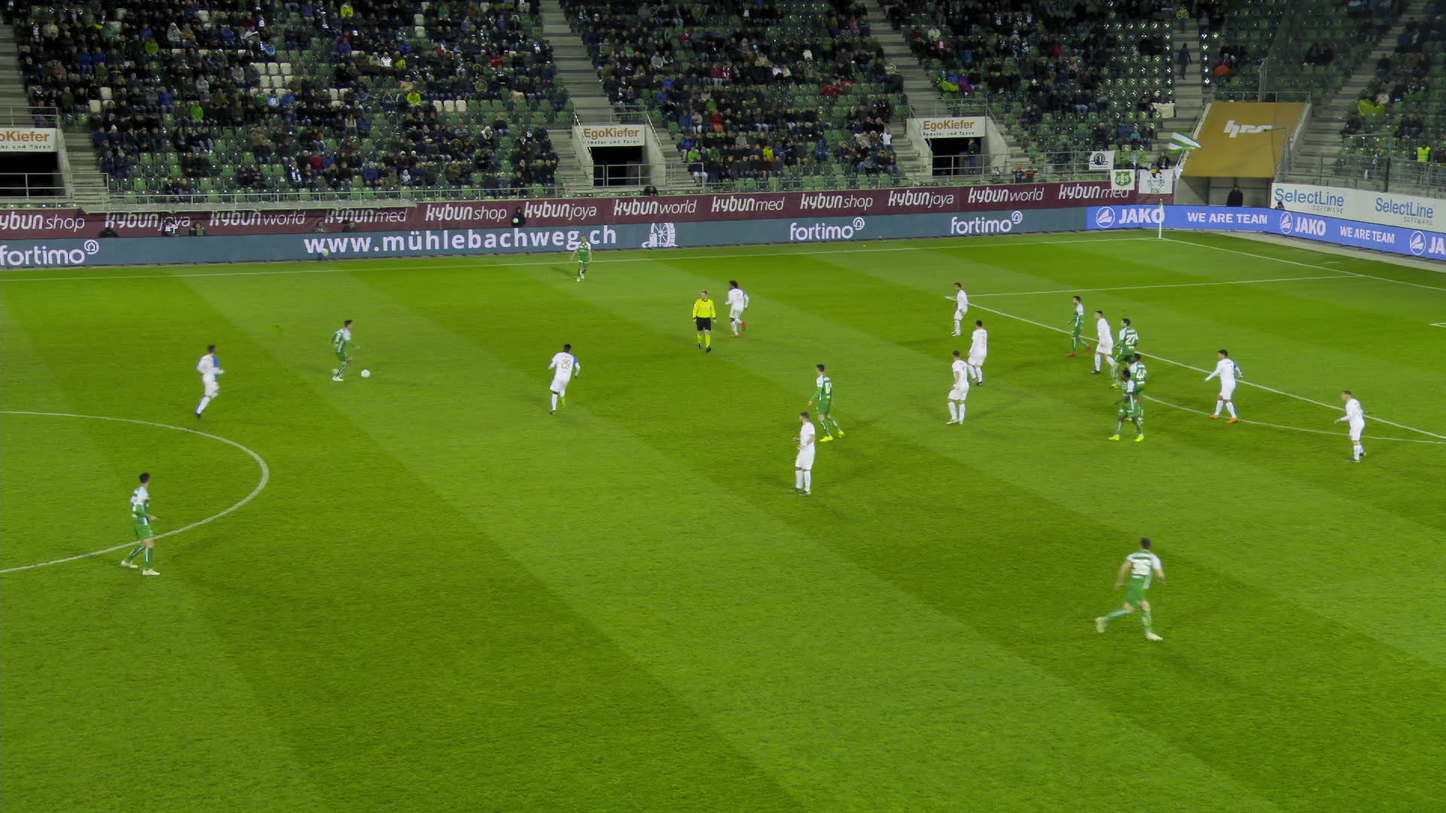ball: (360, 370, 370, 378)
player: (1091, 536, 1157, 641), (113, 469, 151, 572), (1204, 348, 1240, 422), (177, 345, 213, 418), (1109, 367, 1143, 442), (806, 363, 838, 441), (315, 319, 353, 383), (1331, 390, 1364, 462), (548, 342, 579, 417), (938, 350, 969, 425), (1106, 318, 1136, 390), (786, 411, 811, 495), (1114, 353, 1142, 424), (963, 318, 990, 386), (1088, 309, 1115, 376), (725, 279, 749, 338), (950, 282, 969, 337), (1068, 294, 1085, 355), (569, 234, 590, 282)
referee: (689, 290, 714, 352)
